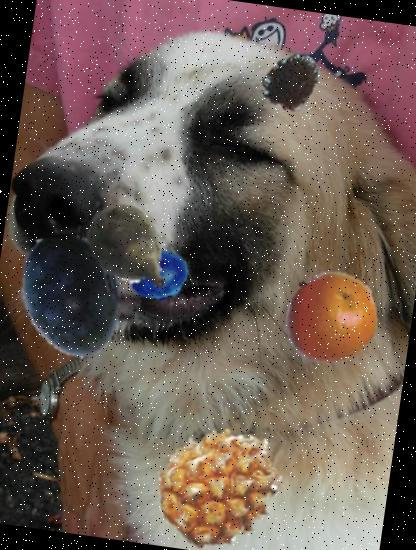Beetroot: (73, 194, 187, 308)
Blueberry: (1, 228, 142, 368)
Huckleberry: (126, 243, 194, 311)
Pineapple: (147, 414, 292, 550)
Rambutan: (256, 47, 328, 119)
Tangelo: (276, 262, 386, 372)
